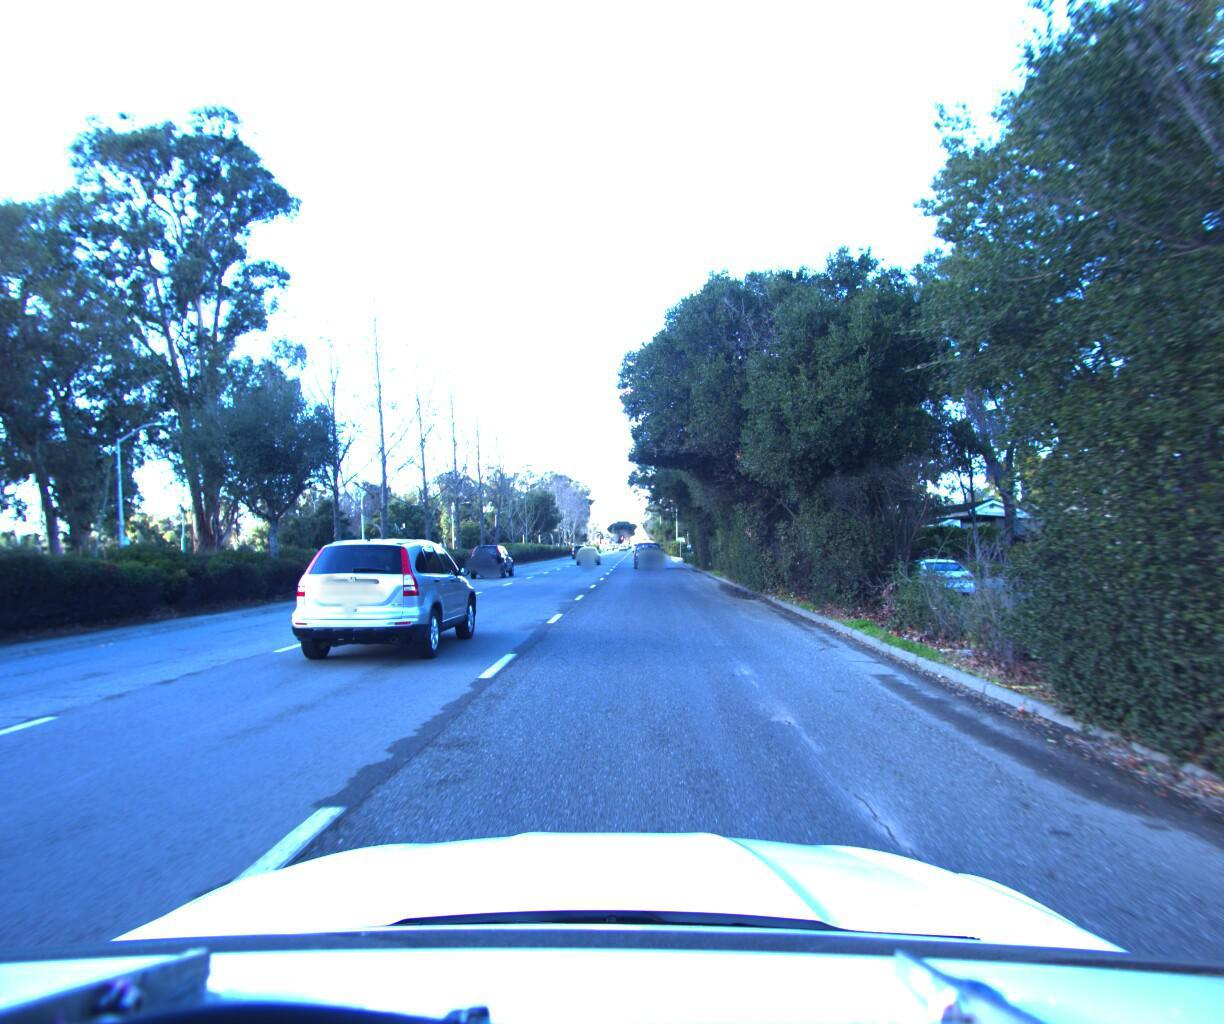bus: (327, 537, 385, 571)
car: (279, 523, 487, 666), (886, 551, 982, 599), (462, 533, 517, 574), (628, 534, 666, 565), (573, 539, 601, 559)
